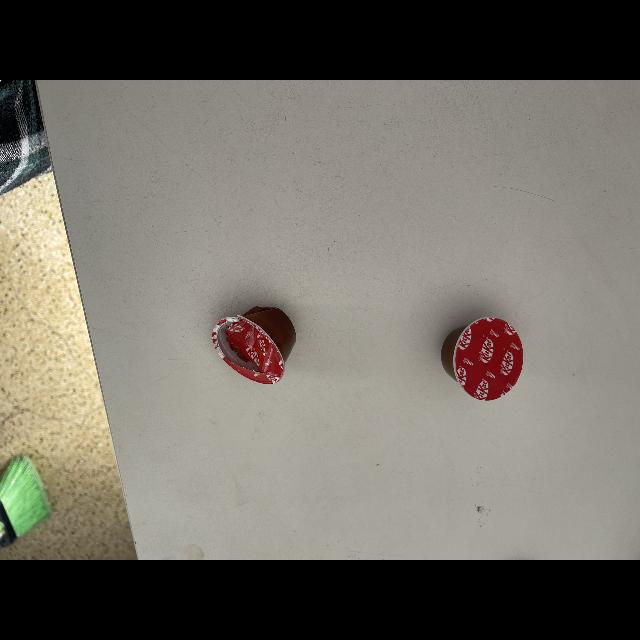damaged_capsule: (207, 298, 307, 392)
intact_capsule: (434, 309, 540, 409)
